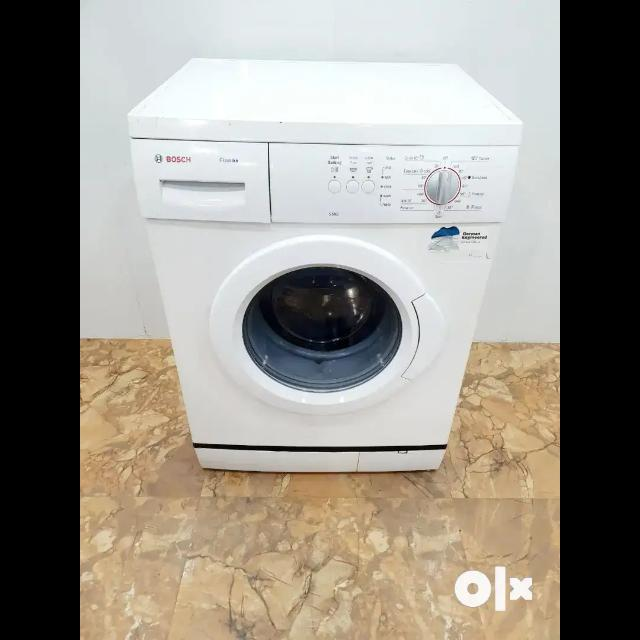Washing-Machine: (132, 58, 518, 460)
